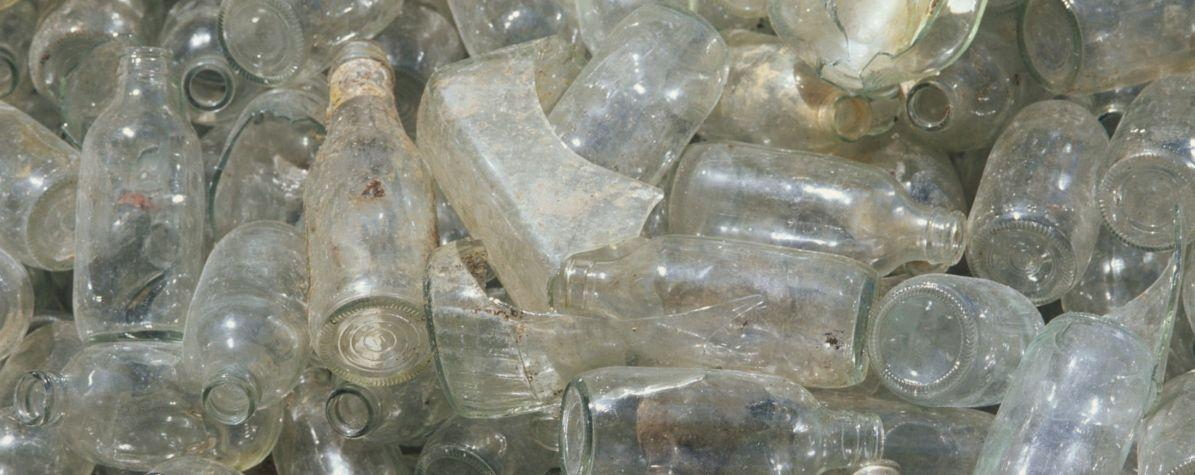glass: (417, 28, 677, 318), (300, 42, 437, 386), (72, 46, 207, 347), (669, 141, 964, 278), (562, 365, 887, 472), (966, 307, 1163, 472), (965, 97, 1114, 303), (695, 35, 928, 160), (177, 218, 311, 424), (863, 273, 1043, 407), (768, 1, 991, 100), (207, 86, 328, 244), (1095, 73, 1195, 251), (27, 4, 149, 144), (1025, 3, 1191, 99), (0, 101, 83, 272), (157, 2, 258, 124)
